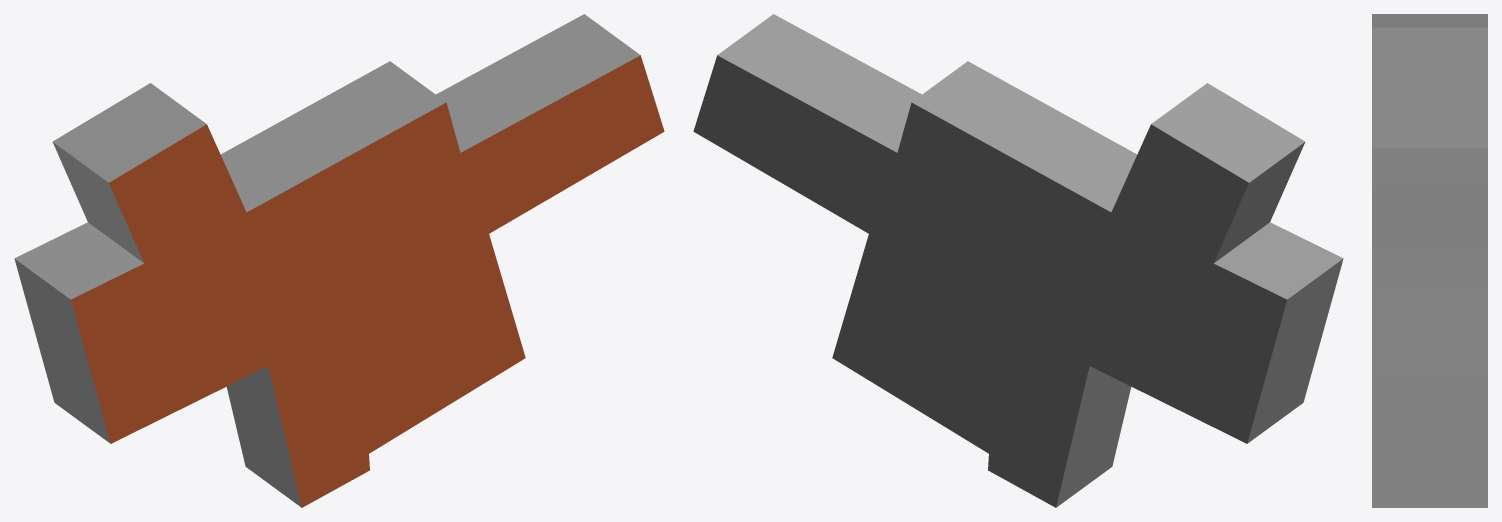
File: construction_3483_assumed_A_Casa_h6m.obj
The picture shows the model from 3 angles, left to right: view 1: azimuth 30°, elevation 25°; view 2: azimuth 150°, elevation 25°; view 3: azimuth 270°, elevation 25°; orthographic projection. The views are drawn at different scales.
Visible parts, largest first — view 1: construction_3483_assumed_A_Casa; view 2: construction_3483_assumed_A_Casa; view 3: construction_3483_assumed_A_Casa.
Part boxes in pixels (x1,y1,x2,y2): construction_3483_assumed_A_Casa: (14,14,664,507); construction_3483_assumed_A_Casa: (693,14,1343,507); construction_3483_assumed_A_Casa: (1372,14,1487,507).
Size of the model in its own units: 36.49 by 23.89 by 6.
